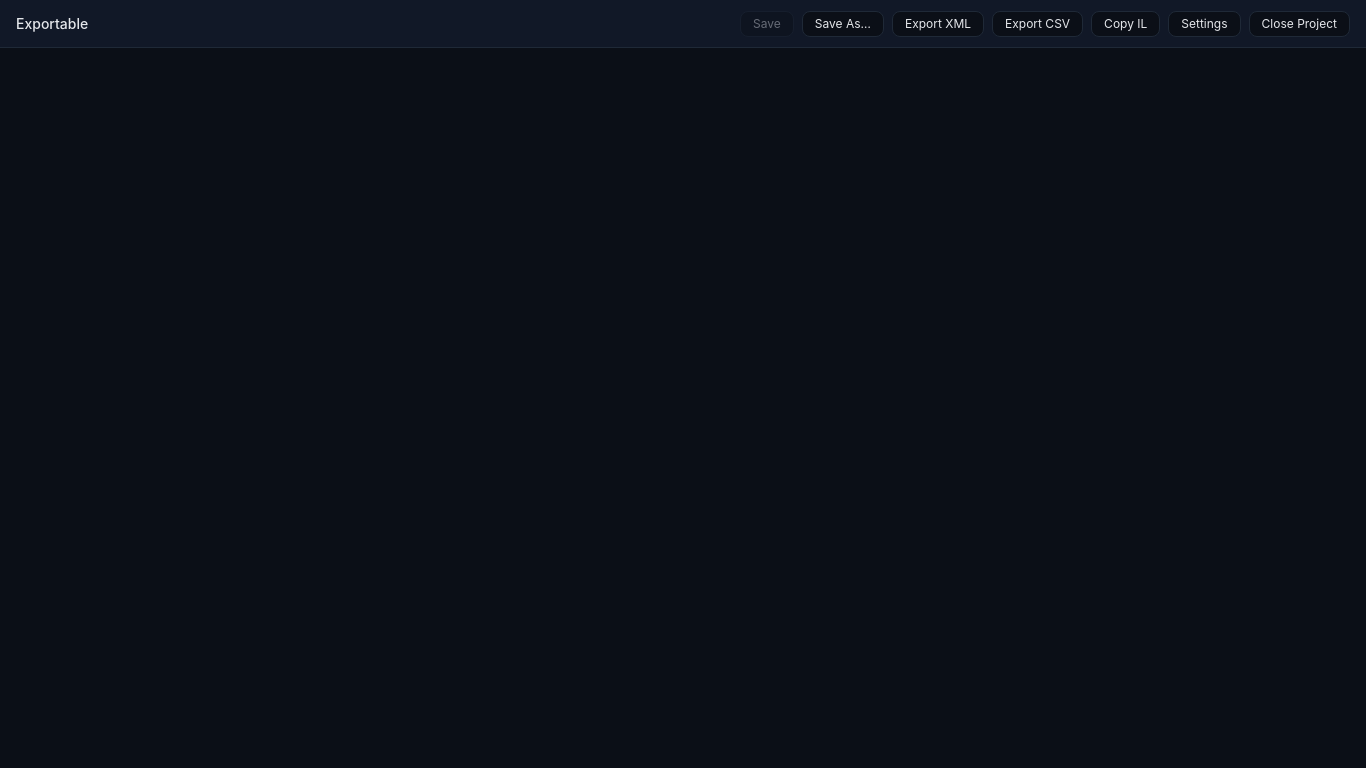
Test case: ProjectToolbar error toasts (replaces window.alert) › Export CSV failure shows an error toast
Click the button with test id "export-csv-btn": (1038, 24) [992, 10, 1083, 36]
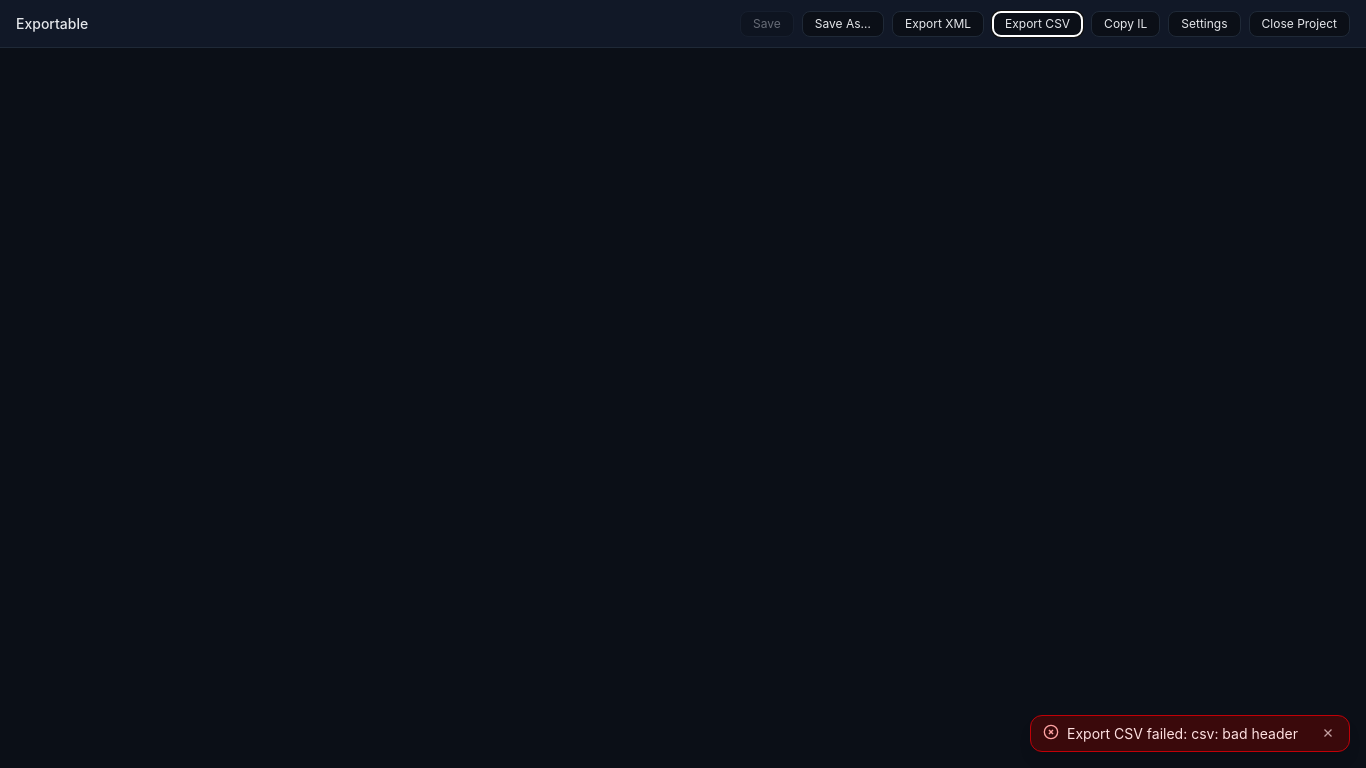
expect the message with test id "toast-error" shows "Export CSV failed": met, box [1067, 725, 1298, 742]
expect the message with test id "toast-error" shows "csv: bad header": met, box [1067, 725, 1298, 742]
